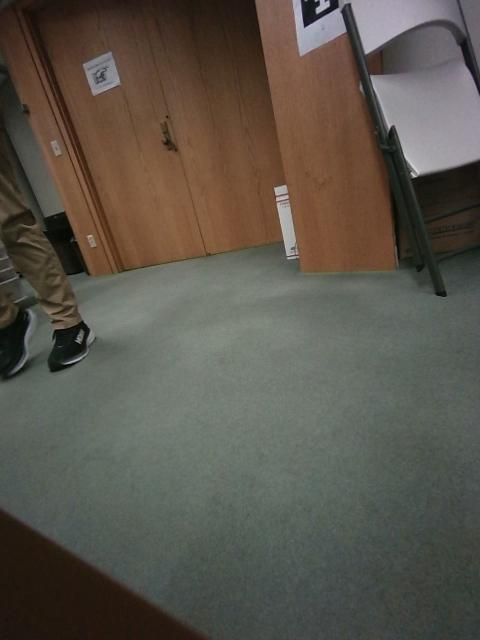block: (432, 281, 477, 358)
